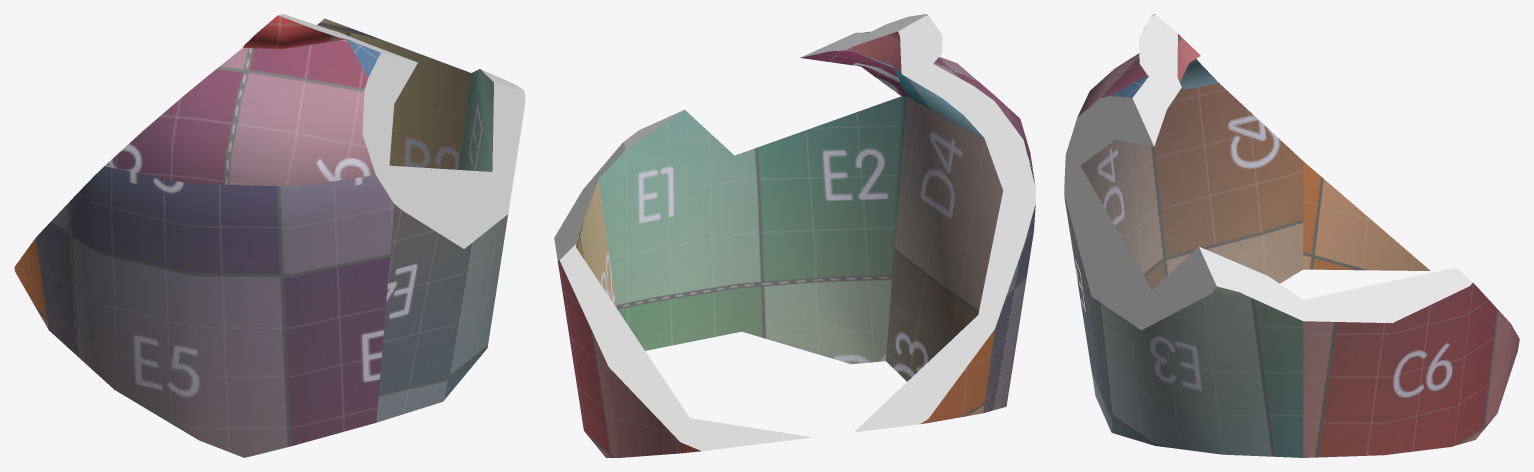
The model's file is MediumUrn_SHAT_cell_012.fbx.
3 renders of one model, left to right at view 1: azimuth 30°, elevation 25°; view 2: azimuth 150°, elevation 25°; view 3: azimuth 270°, elevation 25°, orthographic. The views are drawn at different scales.
Parts seen in each view (by area): view 1: MediumUrn_SHAT_cell_012; view 2: MediumUrn_SHAT_cell_012; view 3: MediumUrn_SHAT_cell_012.
Boxes of the visible parts, <box> form: MediumUrn_SHAT_cell_012: <box>14,14,525,457</box>; MediumUrn_SHAT_cell_012: <box>554,14,1035,457</box>; MediumUrn_SHAT_cell_012: <box>1064,14,1519,457</box>.
Size of the model in its own units: 1.09 by 0.9922 by 1.07.
Materials: 2 (1 with a texture image).
